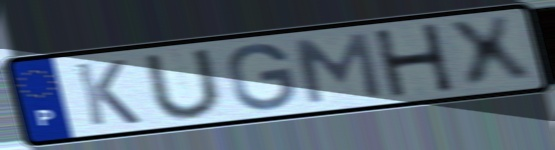G: (225, 41, 299, 113)
H: (369, 21, 459, 101)
K: (71, 57, 145, 128)
M: (291, 30, 386, 106)
U: (138, 46, 229, 121)
X: (441, 13, 539, 92)
